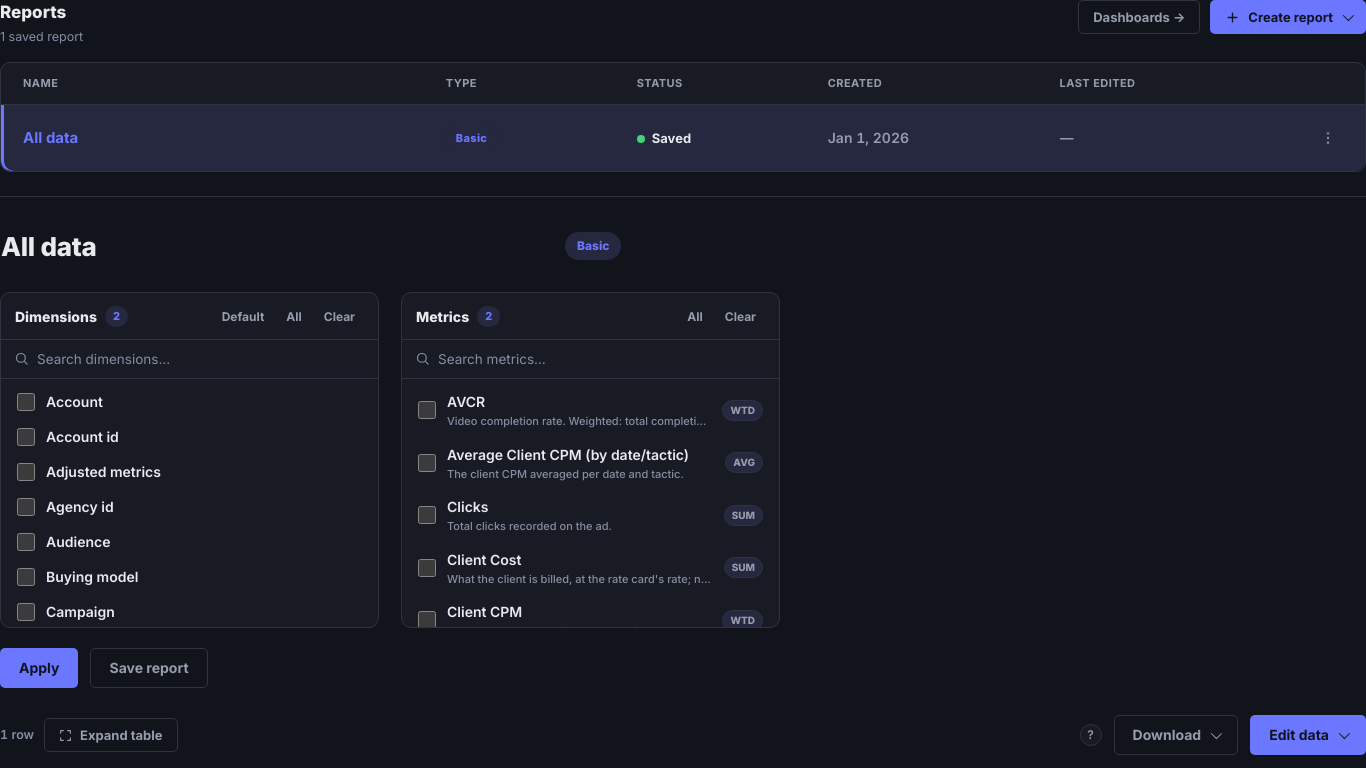
Scenario: ReportingTab reports list › should delete a report and clear the selection
Click the button named "Actions for All data": (1328, 138) [1313, 123, 1343, 153]
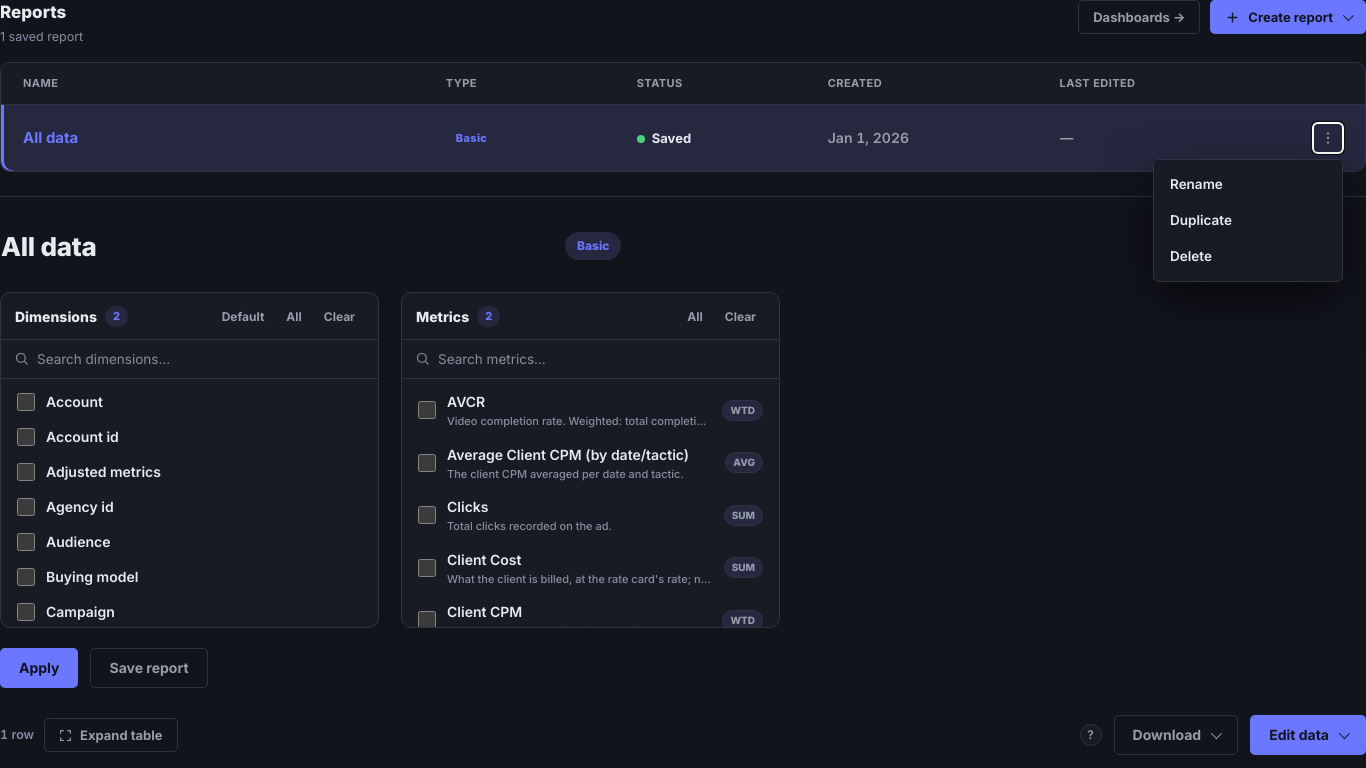
Click the menu item "Delete": (1248, 256) [1160, 238, 1336, 275]
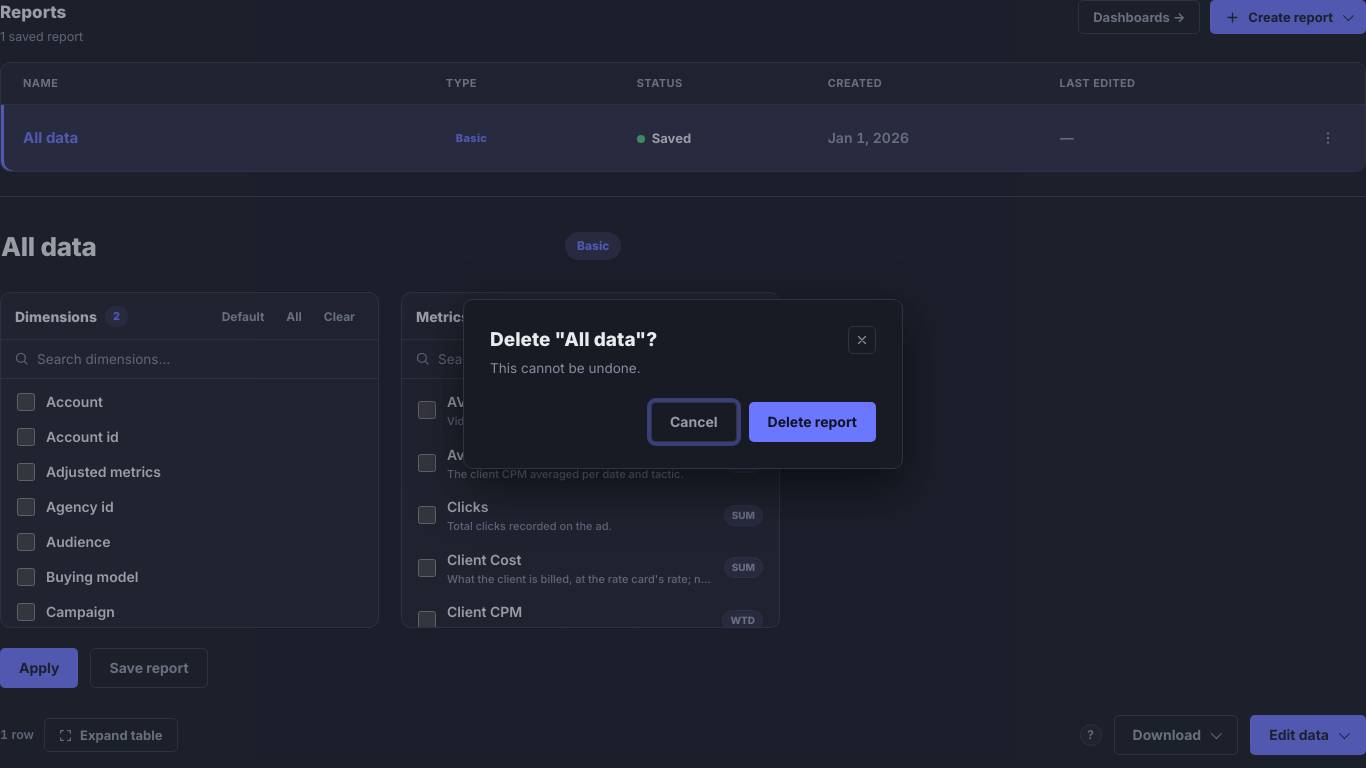
Click the button "Delete report": (812, 422) [749, 402, 876, 442]
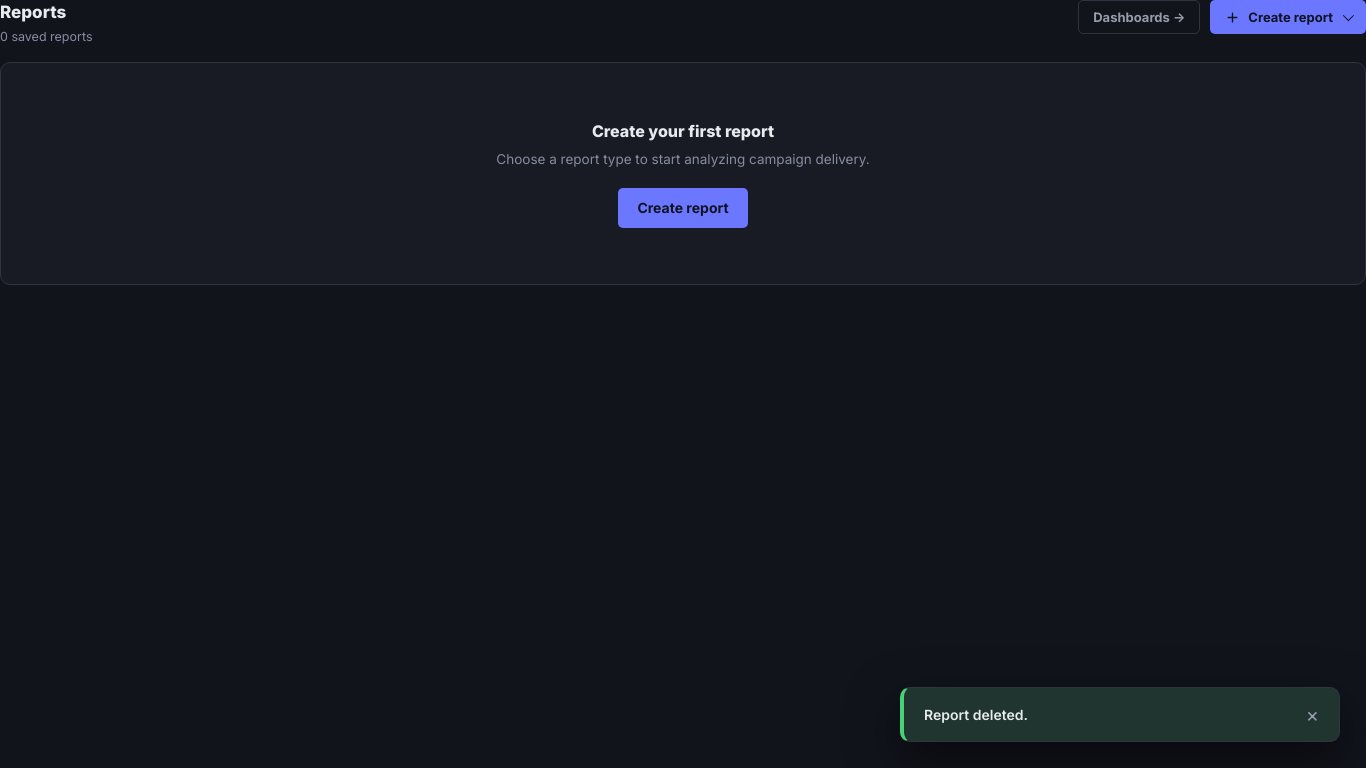
Check: the heading "Create your first report" is shown, box [592, 121, 774, 141]
Check: the text "Report deleted." is shown, box [924, 706, 1028, 723]
